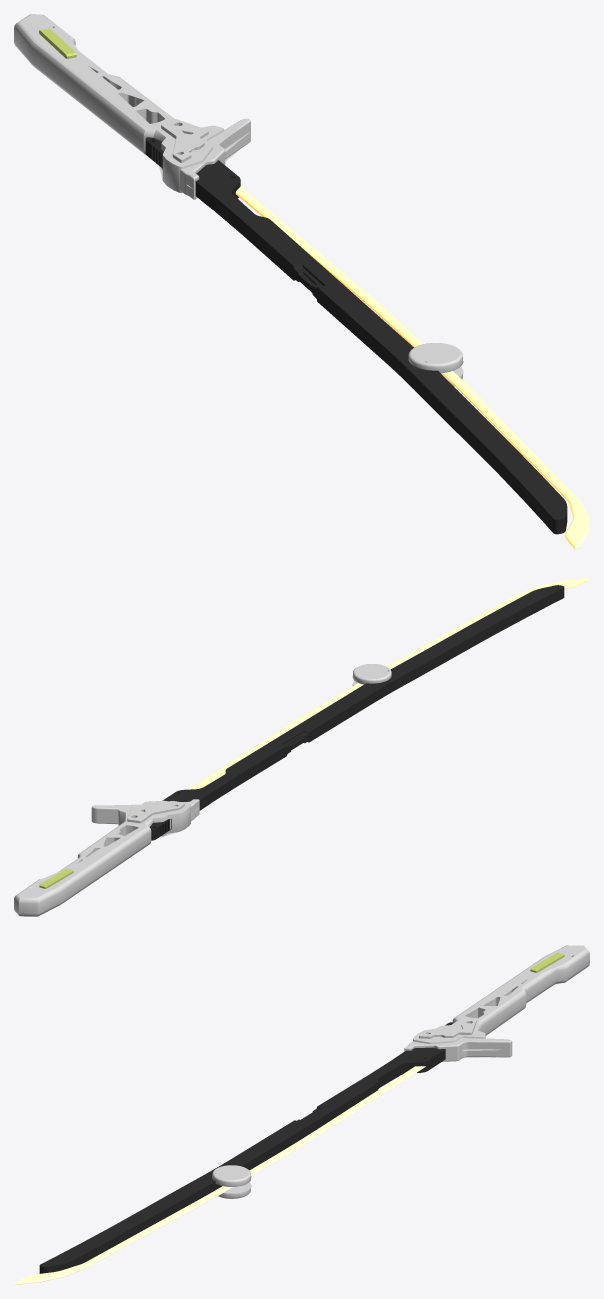
File: Thermal Katana.fbx
3 renders of one model, top to bottom at view 1: azimuth 30°, elevation 25°; view 2: azimuth 150°, elevation 25°; view 3: azimuth 330°, elevation 25°, orthographic. The views are drawn at different scales.
Parts seen in each view (by area): view 1: Katana; view 2: Katana; view 3: Katana.
Boxes of the visible parts, bbox=[...] form: Katana: bbox=[14, 14, 589, 549]; Katana: bbox=[14, 578, 589, 916]; Katana: bbox=[14, 945, 589, 1284].
Bounding box in the file's own units: 0.5856 × 0.1029 × 3.68.
